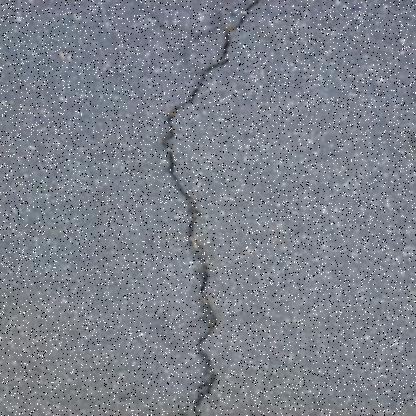Cracks: (149, 0, 265, 415)
